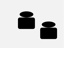human: (38, 20, 58, 40), (17, 10, 35, 29)
